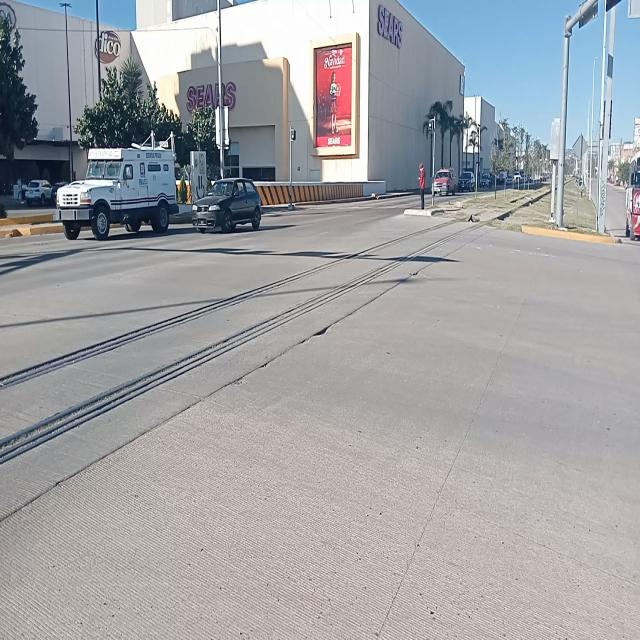Auto: (56, 145, 178, 242), (191, 178, 264, 232), (432, 167, 456, 197), (22, 180, 54, 202), (459, 169, 476, 191), (480, 173, 492, 190)
Peaton: (417, 160, 428, 209)
